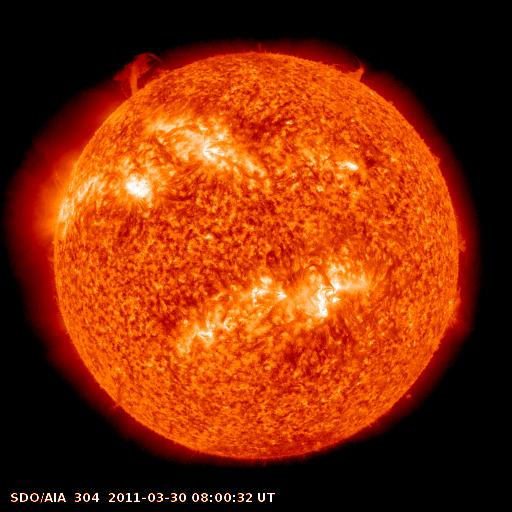prominence: (106, 47, 180, 100), (307, 44, 378, 91), (432, 282, 474, 333)
